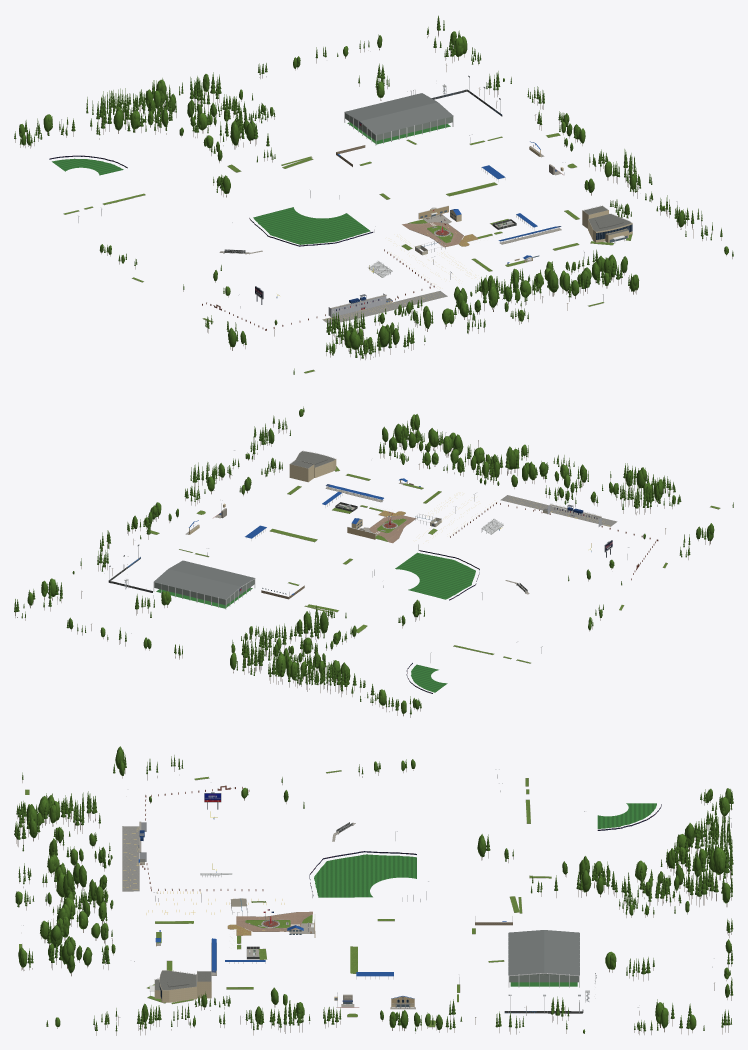
Rendered from wmhs-v3-partC-v3details-trees-poles.glb.
3 renders of one model, top to bottom at view 1: azimuth 30°, elevation 25°; view 2: azimuth 150°, elevation 25°; view 3: azimuth 270°, elevation 25°, orthographic. The views are drawn at different scales.
Parts seen in each view (by area): view 1: V3_BallFields_Turf_Windscreen, V3_CoveredPracticePavilion_2026, V3_FrontEntry_FlagIsland_Loop, V3_LotIslands_Curbed, V5_Arena_CurvedFront, V3_Stadium_FencesGates_GrandstandWall_Banners_VideoBoard, V3_TravisLot_Stripes; view 2: V3_CoveredPracticePavilion_2026, V3_BallFields_Turf_Windscreen, V3_FrontEntry_FlagIsland_Loop, V3_LotIslands_Curbed, V5_Arena_CurvedFront, V3_TravisLot_Stripes, V3_Stadium_FencesGates_GrandstandWall_Banners_VideoBoard; view 3: V3_BallFields_Turf_Windscreen, V3_CoveredPracticePavilion_2026, V5_Arena_CurvedFront, V3_FrontEntry_FlagIsland_Loop, V3_LotIslands_Curbed, V3_TravisLot_Stripes, V3_Stadium_FencesGates_GrandstandWall_Banners_VideoBoard.
Part boxes in pixels (x1,y1,x2,y2): V3_BallFields_Turf_Windscreen: (49,155,373,246); V3_CoveredPracticePavilion_2026: (344,93,453,145); V3_FrontEntry_FlagIsland_Loop: (402,205,478,251); V3_LotIslands_Curbed: (63,133,632,373); V5_Arena_CurvedFront: (582,205,632,243); V3_Stadium_FencesGates_GrandstandWall_Banners_VideoBoard: (202,249,434,330); V3_TravisLot_Stripes: (322,291,447,324); V3_CoveredPracticePavilion_2026: (153,560,255,609); V3_BallFields_Turf_Windscreen: (395,550,479,693); V3_FrontEntry_FlagIsland_Loop: (347,510,441,543); V3_LotIslands_Curbed: (146,466,720,663); V5_Arena_CurvedFront: (289,450,336,482); V3_TravisLot_Stripes: (500,495,617,526); V3_Stadium_FencesGates_GrandstandWall_Banners_VideoBoard: (450,502,658,580); V3_BallFields_Turf_Windscreen: (309,803,661,897); V3_CoveredPracticePavilion_2026: (508,930,579,987); V5_Arena_CurvedFront: (149,970,211,1002); V3_FrontEntry_FlagIsland_Loop: (227,898,315,937); V3_LotIslands_Curbed: (19,770,551,1027); V3_TravisLot_Stripes: (122,826,139,891); V3_Stadium_FencesGates_GrandstandWall_Banners_VideoBoard: (138,785,263,891).
Bounding box in the file's own units: 565 × 38.18 × 645.
Materials: 86 (55 with a texture image).
